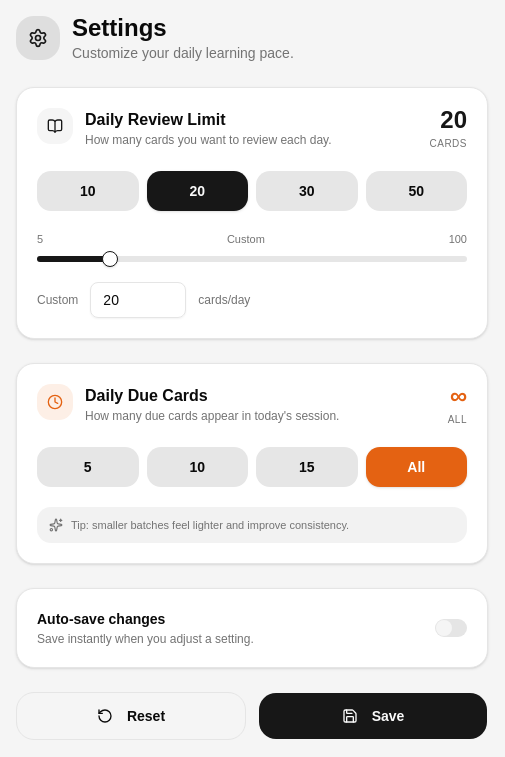
SettingsPage › due cards limit › clicking a numeric preset from All removes ∞
Expected: the text "∞" is shown, [448, 384, 467, 408]
"15" appears only in due presets
Click the button "15". click: (307, 466)
box: [256, 446, 358, 486]
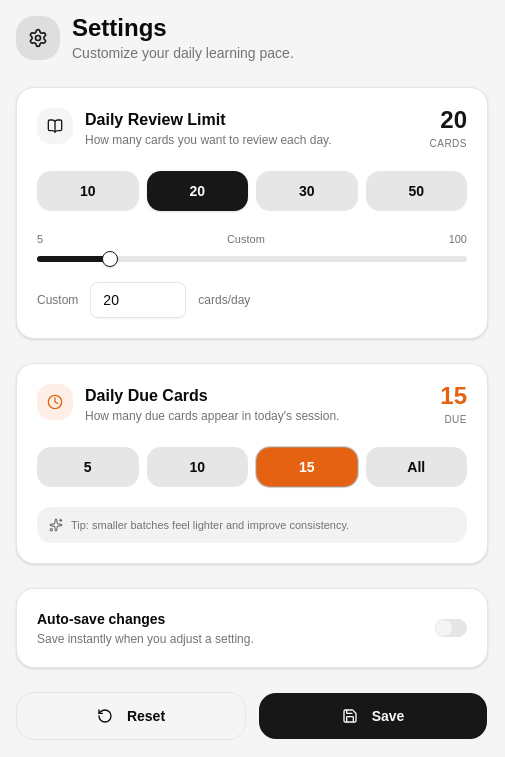
Expected: the text "∞" is gone
